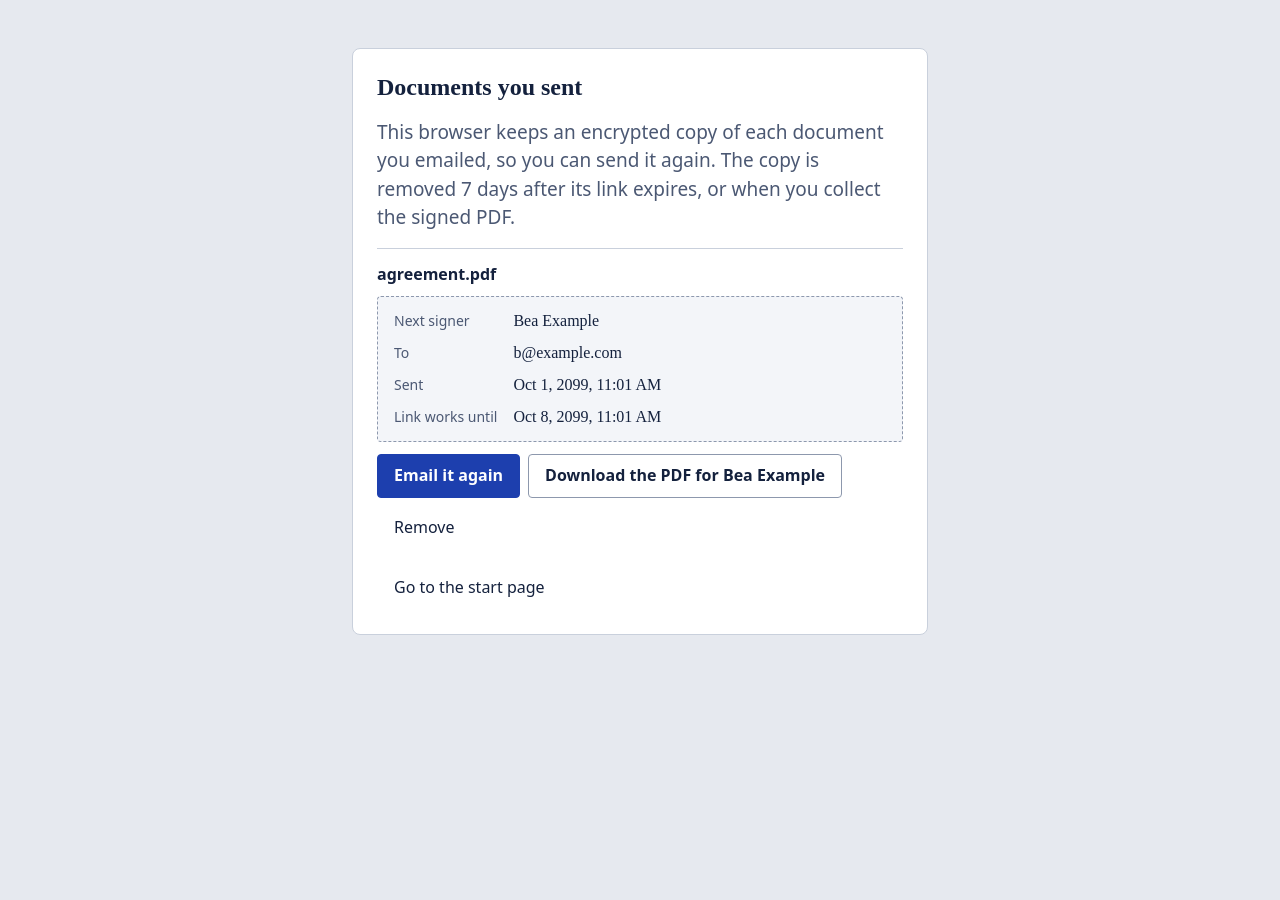
Documents you sent › emails a kept document again under a new id, and keeps the old entry until the send succeeded
The width and height of the screenshot is (1280, 900).
Expected: the heading "agreement.pdf" is shown, [377, 263, 496, 285]
Expected: the button with test id "sent-item-download" reads "Download the PDF for Bea Example", [528, 454, 842, 498]
What coordinates should you click on to do the following:
click the button with test id "sent-item-email"
I would click on:
 (449, 476)
Its box is [377, 454, 520, 498].
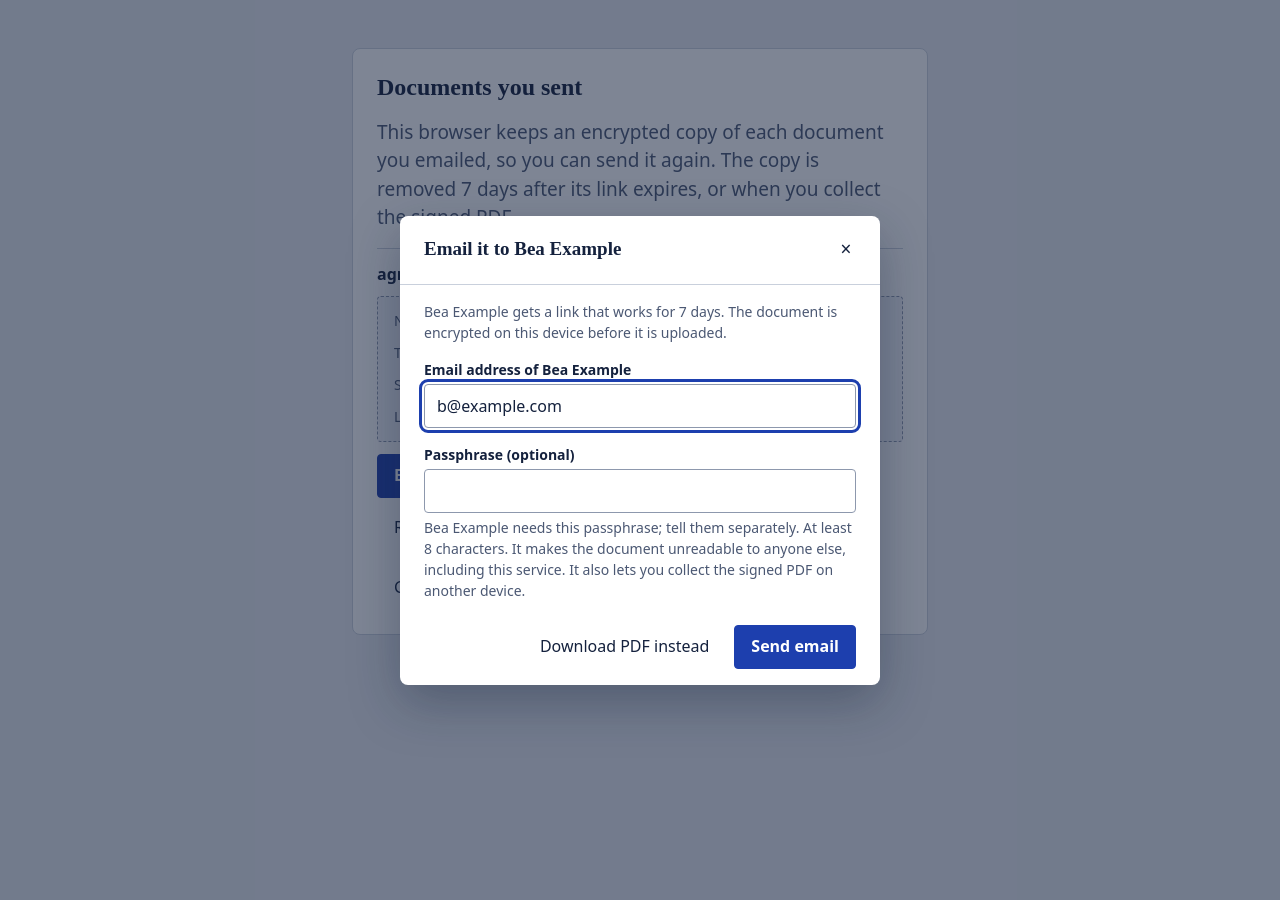
Expected: the field with test id "email-to" holds "b@example.com", [424, 384, 856, 428]
What coordinates should you click on to do the following:
click the button with test id "email-continue"
I would click on:
 (795, 646)
Its box is [734, 624, 856, 668].
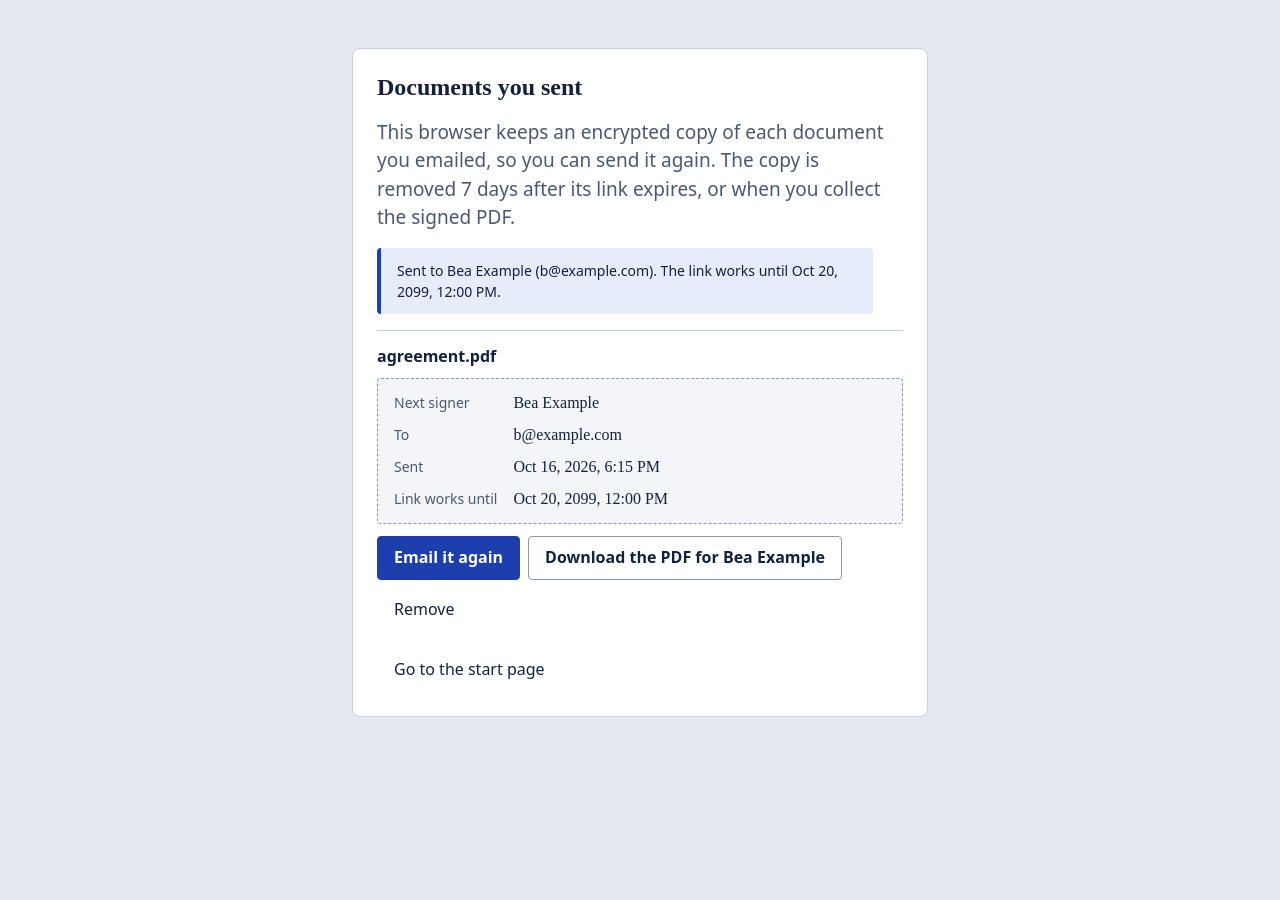
Expected: the message with test id "sent-list-status" shows "Sent to Bea Example (b@example.com)", [377, 248, 874, 314]
